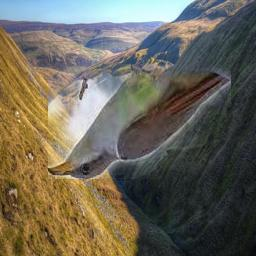Cuckoo: (49, 65, 232, 180)
